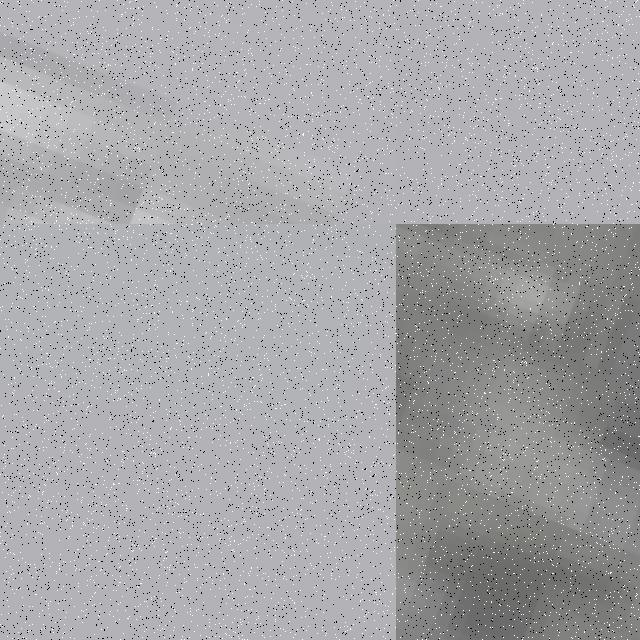0: (0, 0, 396, 224)
drone: (396, 224, 640, 640)
